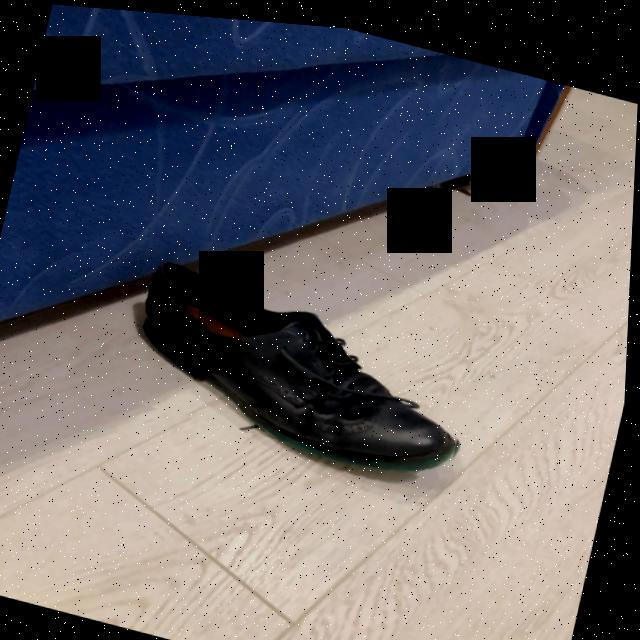shoe: (144, 261, 460, 464)
